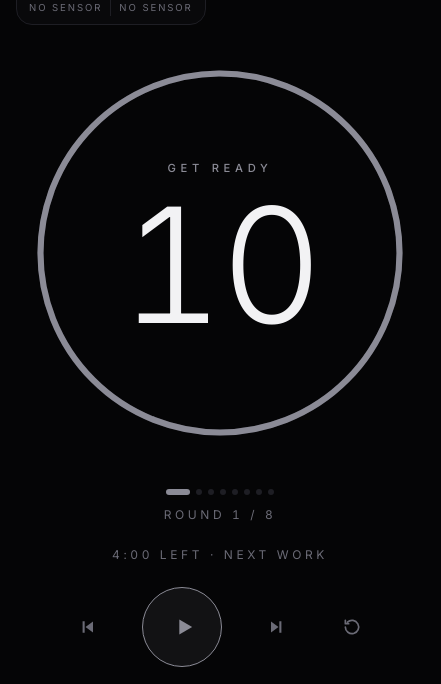
TimerScreen › completes the whole session
(page scrolled)
Click the button with test id "control-primary". click: (182, 627)
box: [142,587,222,667]
Wait 240500 ms
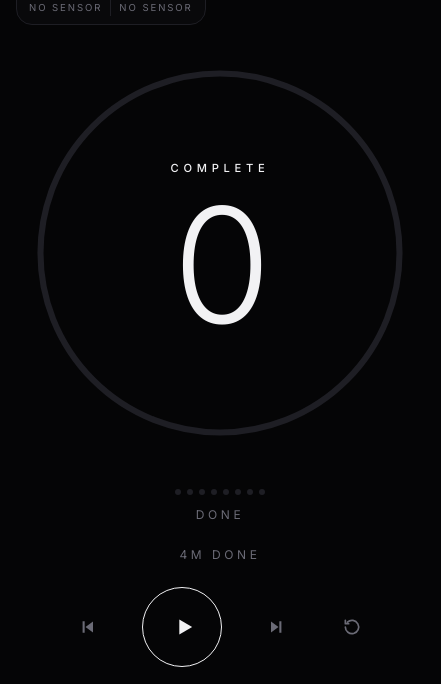
Expected: the text with test id "phase-label" reads "Complete", [170,161,269,175]
Expected: the text with test id "session-readout" shows "done", [179,547,260,562]
